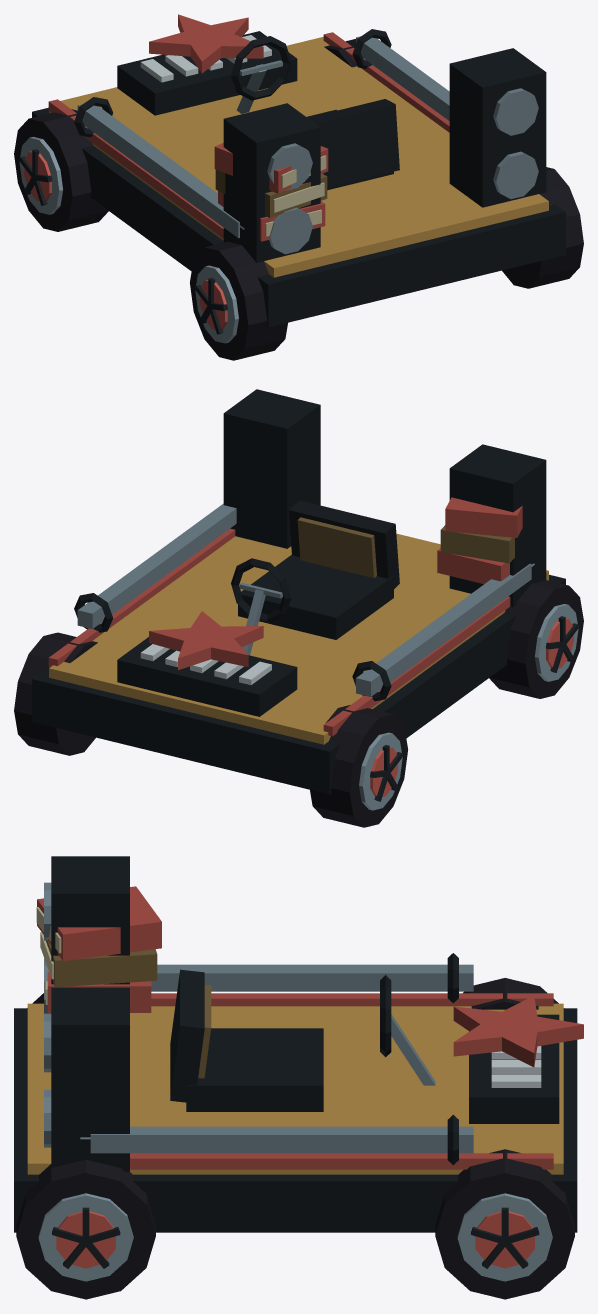
Rendered from kart.glb.
The picture shows the model from 3 angles, top to bottom: view 1: azimuth 30°, elevation 25°; view 2: azimuth 150°, elevation 25°; view 3: azimuth 270°, elevation 25°; orthographic projection. The views are drawn at different scales.
Parts seen in each view (by area): view 1: identity-stage-stage-platform-and-pa-towers, identity-stage-motif-pipes, identity-stage-driver-cockpit, wheel-rear-left, wheel-front-left, identity-stage-motif-books, identity-stage-motif-star, wheel-rear-right; view 2: identity-stage-stage-platform-and-pa-towers, identity-stage-driver-cockpit, identity-stage-motif-pipes, wheel-front-left, wheel-rear-left, identity-stage-motif-books, wheel-front-right, identity-stage-motif-star; view 3: identity-stage-stage-platform-and-pa-towers, identity-stage-motif-pipes, identity-stage-driver-cockpit, wheel-front-right, wheel-rear-right, identity-stage-motif-books, identity-stage-motif-star, wheel-front-left.
Boxes of the visible parts, bbox=[...] form: identity-stage-stage-platform-and-pa-towers: bbox=[32, 31, 565, 327]; identity-stage-motif-pipes: bbox=[74, 29, 449, 238]; identity-stage-driver-cockpit: bbox=[231, 36, 399, 190]; wheel-rear-left: bbox=[190, 241, 287, 360]; wheel-front-left: bbox=[14, 109, 108, 231]; identity-stage-motif-books: bbox=[214, 142, 328, 241]; identity-stage-motif-star: bbox=[149, 14, 263, 73]; wheel-rear-right: bbox=[502, 167, 583, 288]; identity-stage-stage-platform-and-pa-towers: bbox=[32, 389, 565, 794]; identity-stage-driver-cockpit: bbox=[231, 500, 399, 655]; identity-stage-motif-pipes: bbox=[74, 503, 534, 701]; wheel-front-left: bbox=[310, 705, 408, 827]; wheel-rear-left: bbox=[489, 580, 583, 698]; identity-stage-motif-books: bbox=[437, 497, 522, 583]; wheel-front-right: bbox=[14, 632, 97, 755]; identity-stage-motif-star: bbox=[149, 611, 263, 670]; identity-stage-stage-platform-and-pa-towers: bbox=[14, 856, 577, 1232]; identity-stage-motif-pipes: bbox=[80, 953, 473, 1165]; identity-stage-driver-cockpit: bbox=[170, 969, 435, 1111]; wheel-front-right: bbox=[435, 1149, 574, 1299]; wheel-rear-right: bbox=[16, 1159, 155, 1299]; identity-stage-motif-books: bbox=[36, 886, 161, 1012]; identity-stage-motif-star: bbox=[453, 995, 583, 1067]; wheel-front-left: bbox=[463, 978, 558, 1009].
Size of the model in its own units: 2.16 by 1.28 by 2.53.
